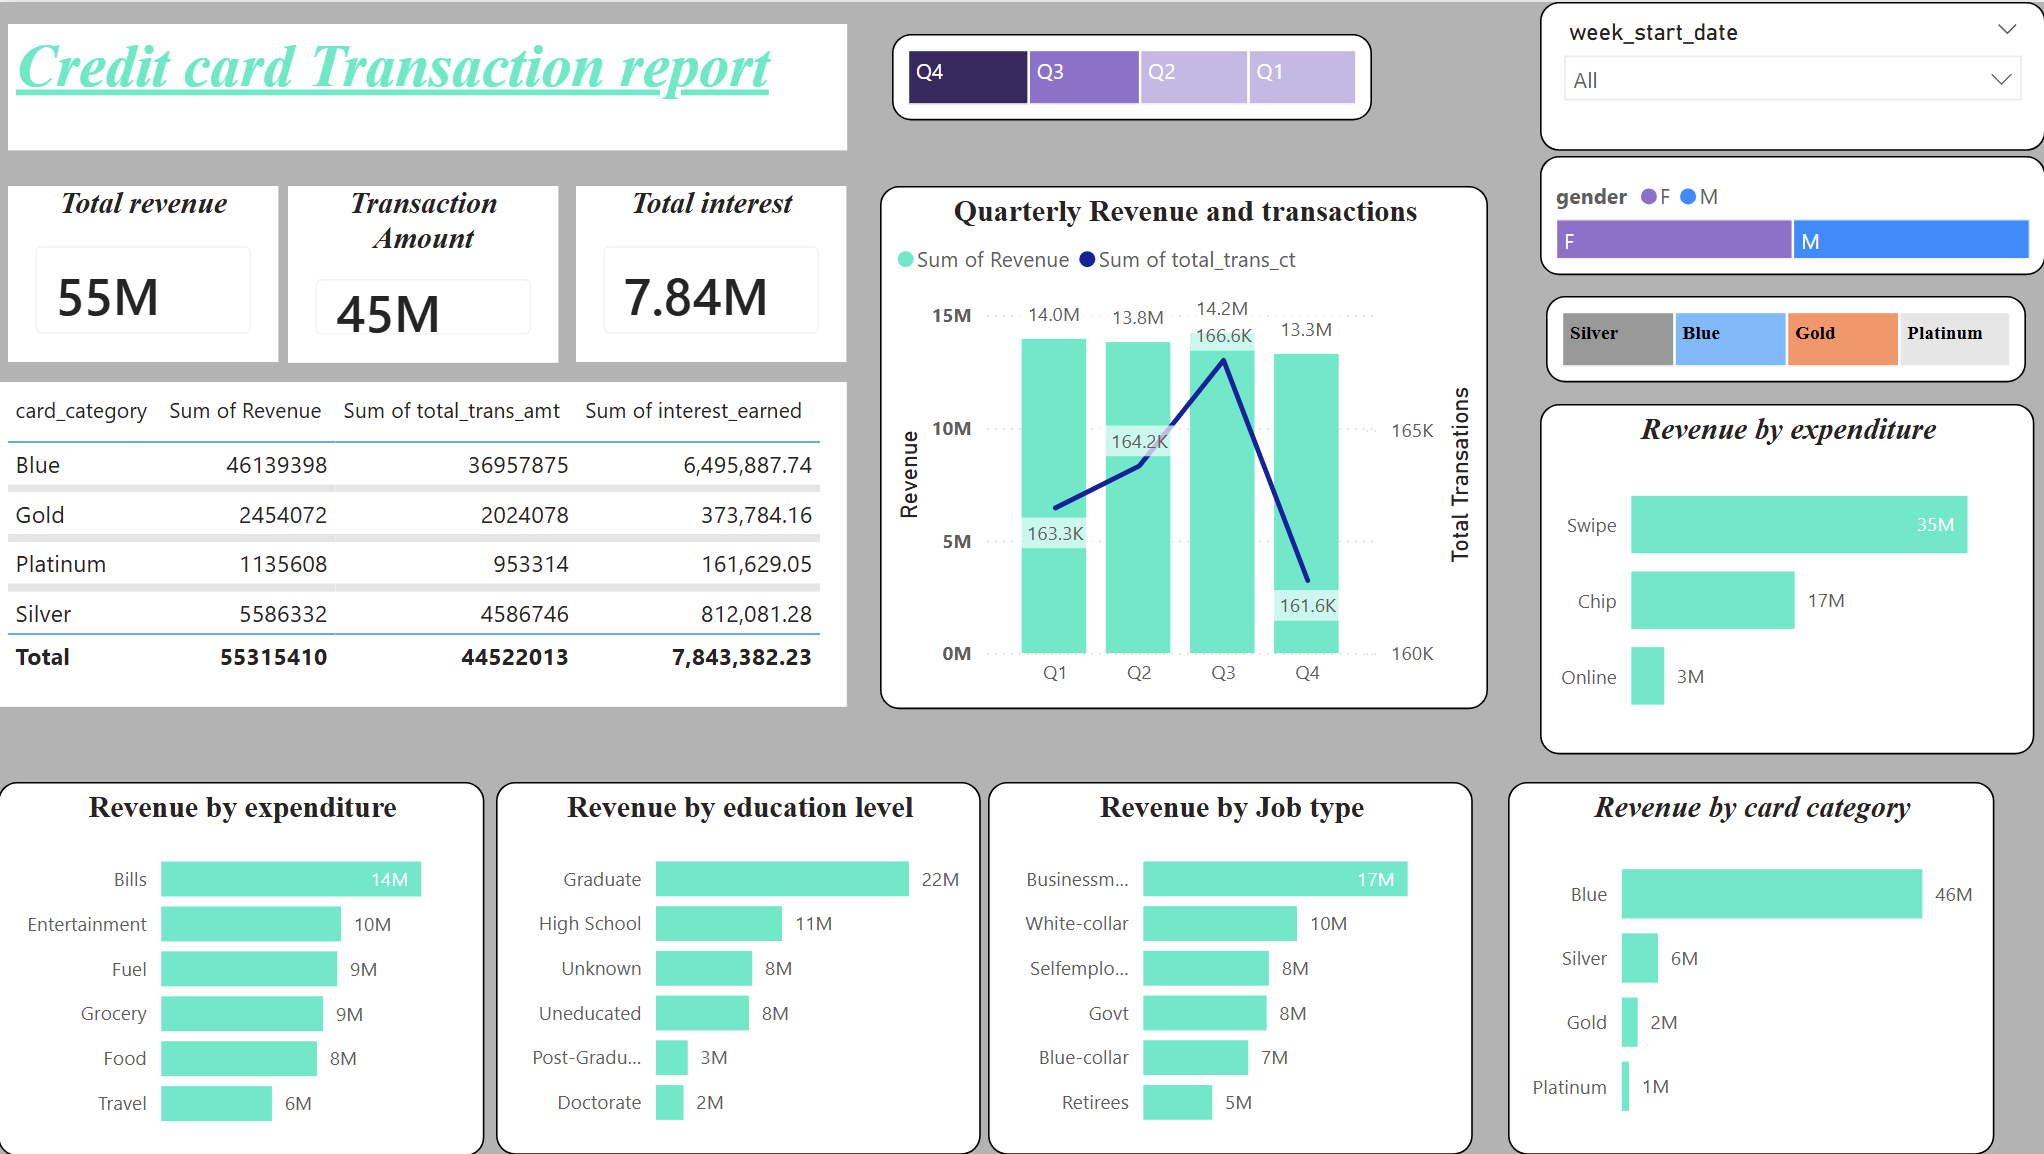

Layout of this report page (visuals, bound fields, positions):
{"tool":"powerbi","page":{"name":"Page 2","canvas":[1280,720],"ordinal":1},"visuals":[{"type":"textbox","box":[6.2,14.2,524.3,78.8],"z":0},{"type":"lineStackedColumnComboChart","title":"Quarterly Revenue and transactions","fields":{"Category":["public cc_detail.qtr"],"Y":["Sum(public cc_detail.Revenue)"],"Y2":["Sum(public cc_detail.total_trans_ct)"]},"box":[551.7,115.1,379.9,326.8],"z":1000},{"type":"barChart","title":"Revenue by expenditure  ","fields":{"Y":["Sum(public cc_detail.Revenue)"],"Category":["public cc_detail.exp_type"]},"box":[0,487.1,303.8,233.8],"z":2000},{"type":"barChart","title":"Revenue by education level","fields":{"Y":["Sum(public cc_detail.Revenue)"],"Category":["public cust_detail.education_level"]},"box":[311.7,487.1,303,233],"z":3000},{"type":"barChart","title":"Revenue by Job type","fields":{"Y":["Sum(public cc_detail.Revenue)"],"Category":["public cust_detail.customer_job"]},"box":[618.2,487.1,303,232.9],"z":4000},{"type":"barChart","title":"Revenue by card category","fields":{"Y":["Sum(public cc_detail.Revenue)"],"Category":["public cc_detail.card_category"]},"box":[944.1,487.1,303.8,232.9],"z":5000},{"type":"barChart","title":"Revenue by expenditure  ","fields":{"Y":["Sum(public cc_detail.Revenue)"],"Category":["public cc_detail.use_chip"]},"box":[963.8,251.2,308.8,218.8],"z":6000},{"type":"tableEx","fields":{"Values":["public cc_detail.card_category","Sum(public cc_detail.Revenue)","Sum(public cc_detail.total_trans_amt)","Sum(public cc_detail.interest_earned)"]},"box":[0,237.3,530.5,202.8],"z":7000},{"type":"cardVisual","title":"Total revenue","fields":{"Data":["Sum(public cc_detail.Revenue)"]},"box":[6.2,115.1,169.2,109.8],"z":8000},{"type":"cardVisual","title":"Transaction Amount","fields":{"Data":["Sum(public cc_detail.total_trans_amt)"]},"box":[181.5,115.1,169.2,110.7],"z":9000},{"type":"cardVisual","title":"Total interest","fields":{"Data":["Sum(public cc_detail.interest_earned)"]},"box":[361.3,115.1,169.2,109.8],"z":10000},{"type":"slicer","fields":{"Values":["public cc_detail.week_start_date"]},"box":[963.5,0,316.2,93],"z":11000},{"type":"treemap","fields":{"Group":["public cc_detail.qtr"],"Values":["Avg(public cc_detail.client_num)"]},"box":[558.8,19.5,300.2,54],"z":12000},{"type":"treemap","title":"Gender","fields":{"Values":["Avg(public cc_detail.client_num)"],"Group":["public cust_detail.gender"]},"box":[963.5,96.5,316.2,74.4],"z":13000},{"type":"treemap","fields":{"Values":["Avg(public cc_detail.client_num)"],"Group":["public cc_detail.card_category"]},"box":[968,183.3,300.2,54],"z":14000}]}

Visuals, with their boxes in screenshot pixels (x1, y1, x2, y2), scaled from the page's 1280x720 canvas onto the 2044x1154 screenshot:
textbox: 10,23,847,149
"Quarterly Revenue and transactions" lineStackedColumnComboChart: 881,184,1488,708
"Revenue by expenditure  " barChart: 0,781,485,1153
"Revenue by education level" barChart: 498,781,982,1153
"Revenue by Job type" barChart: 987,781,1471,1153
"Revenue by card category" barChart: 1508,781,1993,1153
"Revenue by expenditure  " barChart: 1539,403,2032,753
tableEx - public cc_detail.card_category x Sum(public cc_detail.Revenue): 0,380,847,705
"Total revenue" cardVisual: 10,184,280,360
"Transaction Amount" cardVisual: 290,184,560,362
"Total interest" cardVisual: 577,184,847,360
slicer - public cc_detail.week_start_date: 1539,0,2043,149
treemap - public cc_detail.qtr x Avg(public cc_detail.client_num): 892,31,1372,118
"Gender" treemap: 1539,155,2043,274
treemap - Avg(public cc_detail.client_num) x public cc_detail.card_category: 1546,294,2025,380
